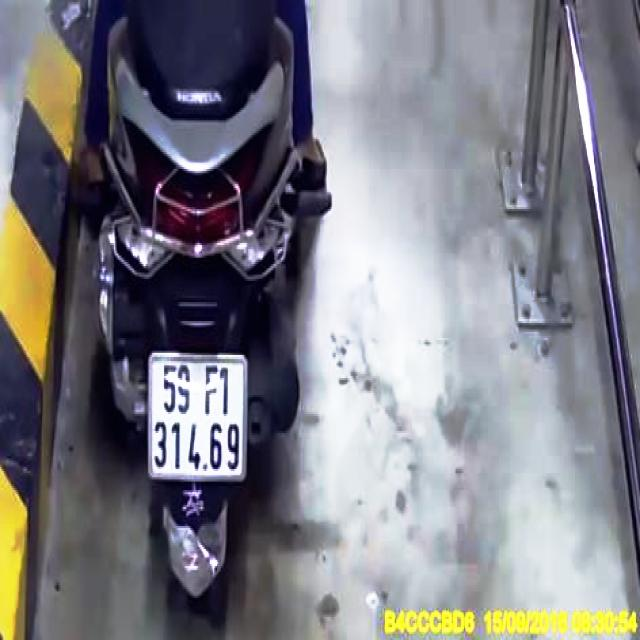license_plate: (149, 356, 247, 479)
